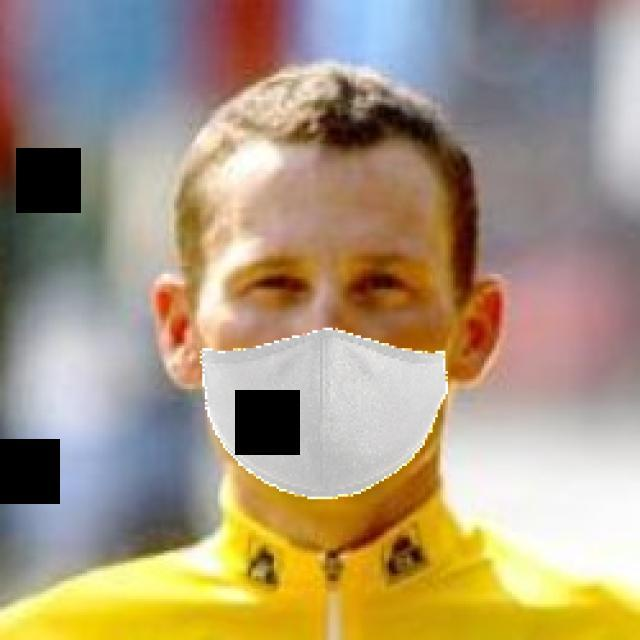cloth: (174, 109, 456, 513)
